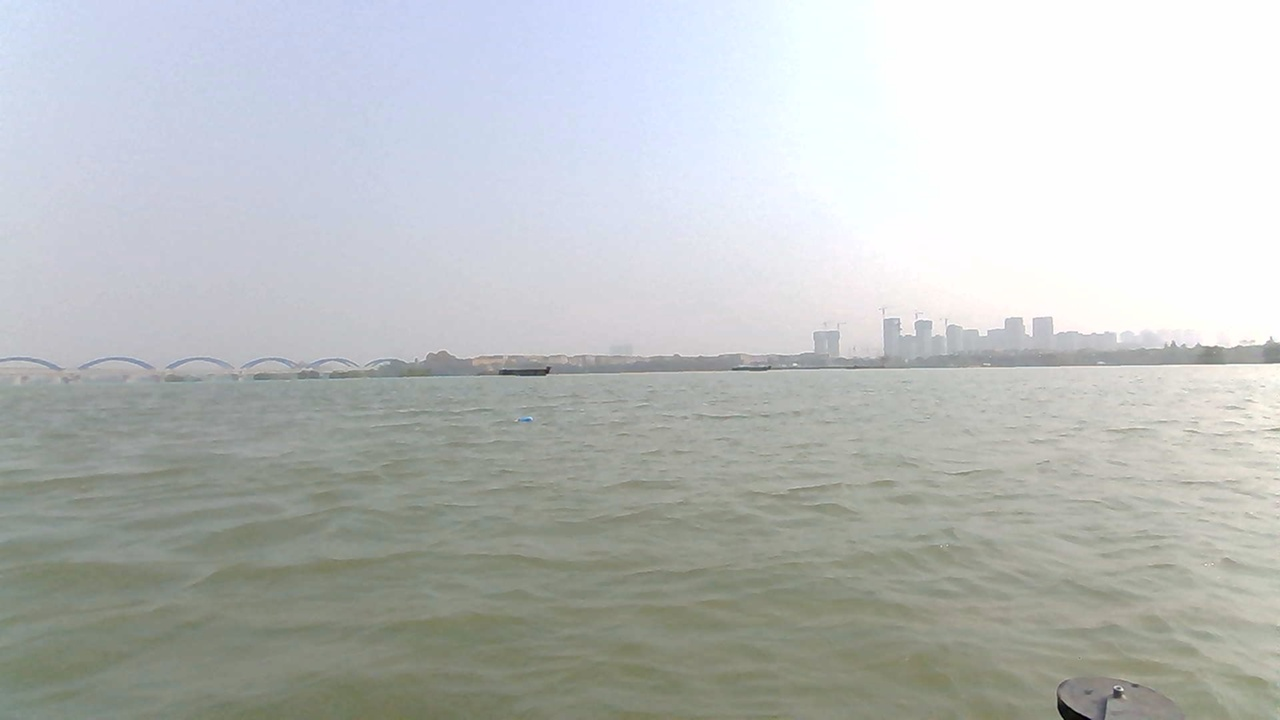bottle: (513, 413, 542, 427)
